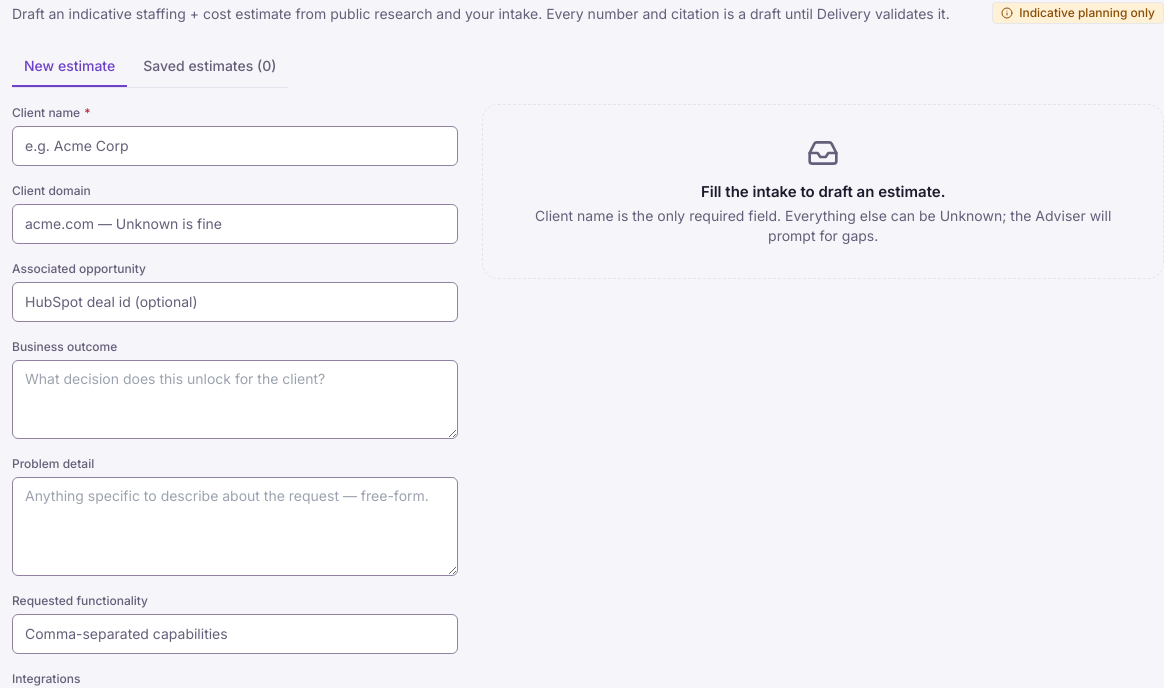
Scenario: DiscoveryPage › renders sources with URL and retrieval date
In the field labelled "Client name*": point(235, 146) [12, 126, 458, 166], type "Acme Corp"
(page scrolled)
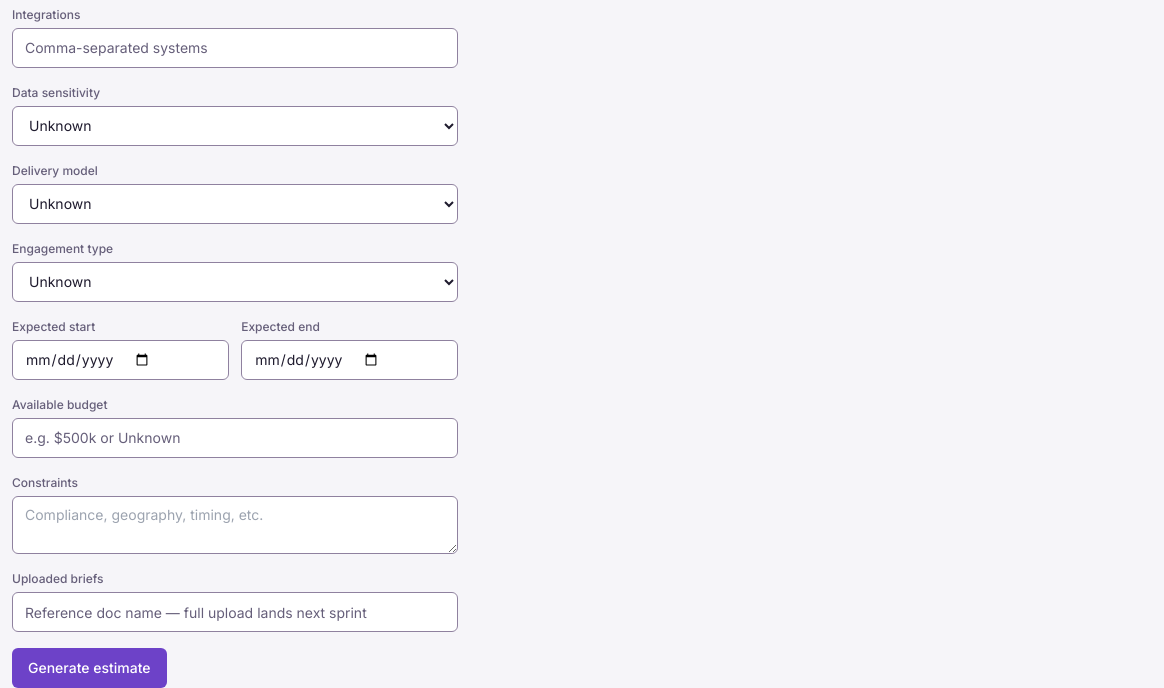
Click the button "Generate estimate": point(89, 668) [12, 648, 166, 687]
(page scrolled)
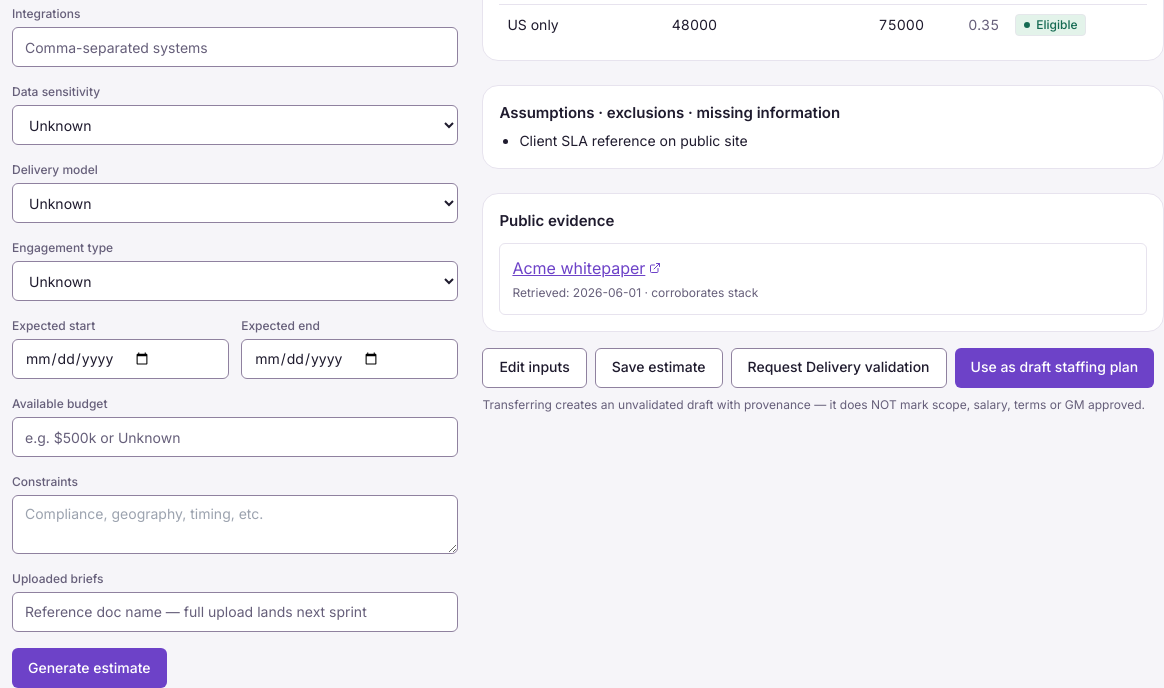
expect the element with test id "adviser-sources" shows "Retrieved: 2026-06-01": met, box [482, 193, 1163, 332]
